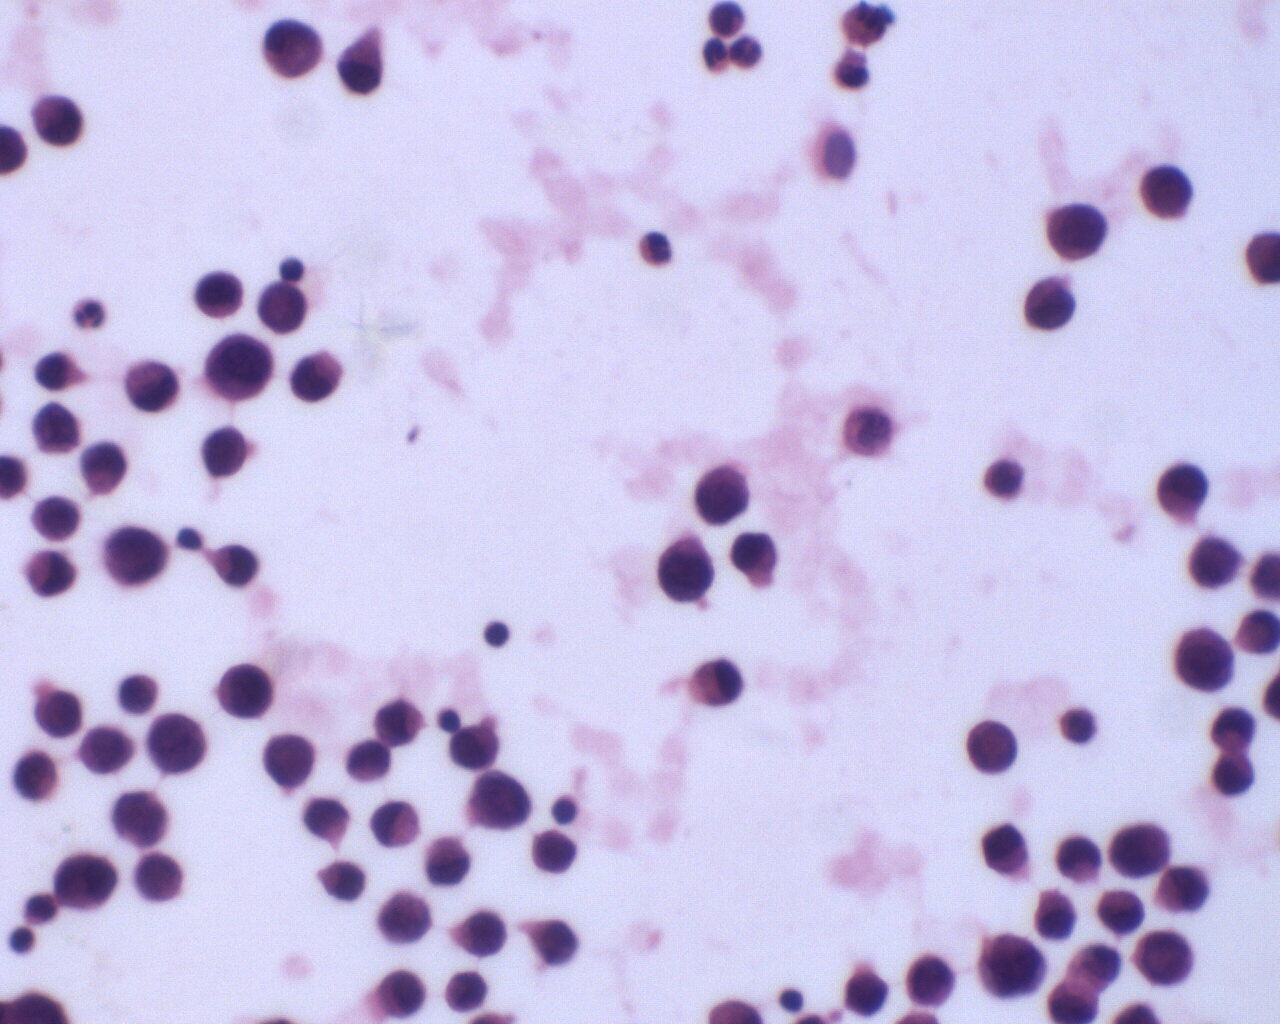ab: (977, 930, 1052, 1002), (202, 330, 276, 402), (52, 845, 121, 918), (652, 534, 718, 607), (104, 518, 168, 592), (1108, 812, 1174, 882), (466, 767, 532, 838), (1044, 197, 1109, 267), (145, 712, 210, 779), (1170, 627, 1235, 693), (692, 462, 757, 527), (74, 719, 143, 779), (1132, 928, 1194, 990), (375, 885, 435, 950), (212, 659, 273, 722), (1022, 270, 1077, 338), (1157, 460, 1214, 523), (261, 732, 326, 789), (1137, 161, 1195, 222), (127, 852, 192, 906), (452, 904, 513, 960), (965, 718, 1022, 777), (189, 264, 245, 325), (24, 546, 82, 604), (29, 90, 86, 148), (28, 399, 84, 459), (125, 355, 179, 415), (27, 488, 82, 545), (1154, 863, 1211, 915), (371, 967, 429, 1017), (904, 955, 958, 1008), (202, 422, 251, 480), (31, 689, 86, 740), (446, 725, 503, 772)
lymph: (549, 789, 577, 828), (483, 615, 512, 652)
meso: (633, 230, 678, 272)
neutro: (71, 294, 114, 334), (731, 34, 763, 67), (701, 36, 727, 72)
